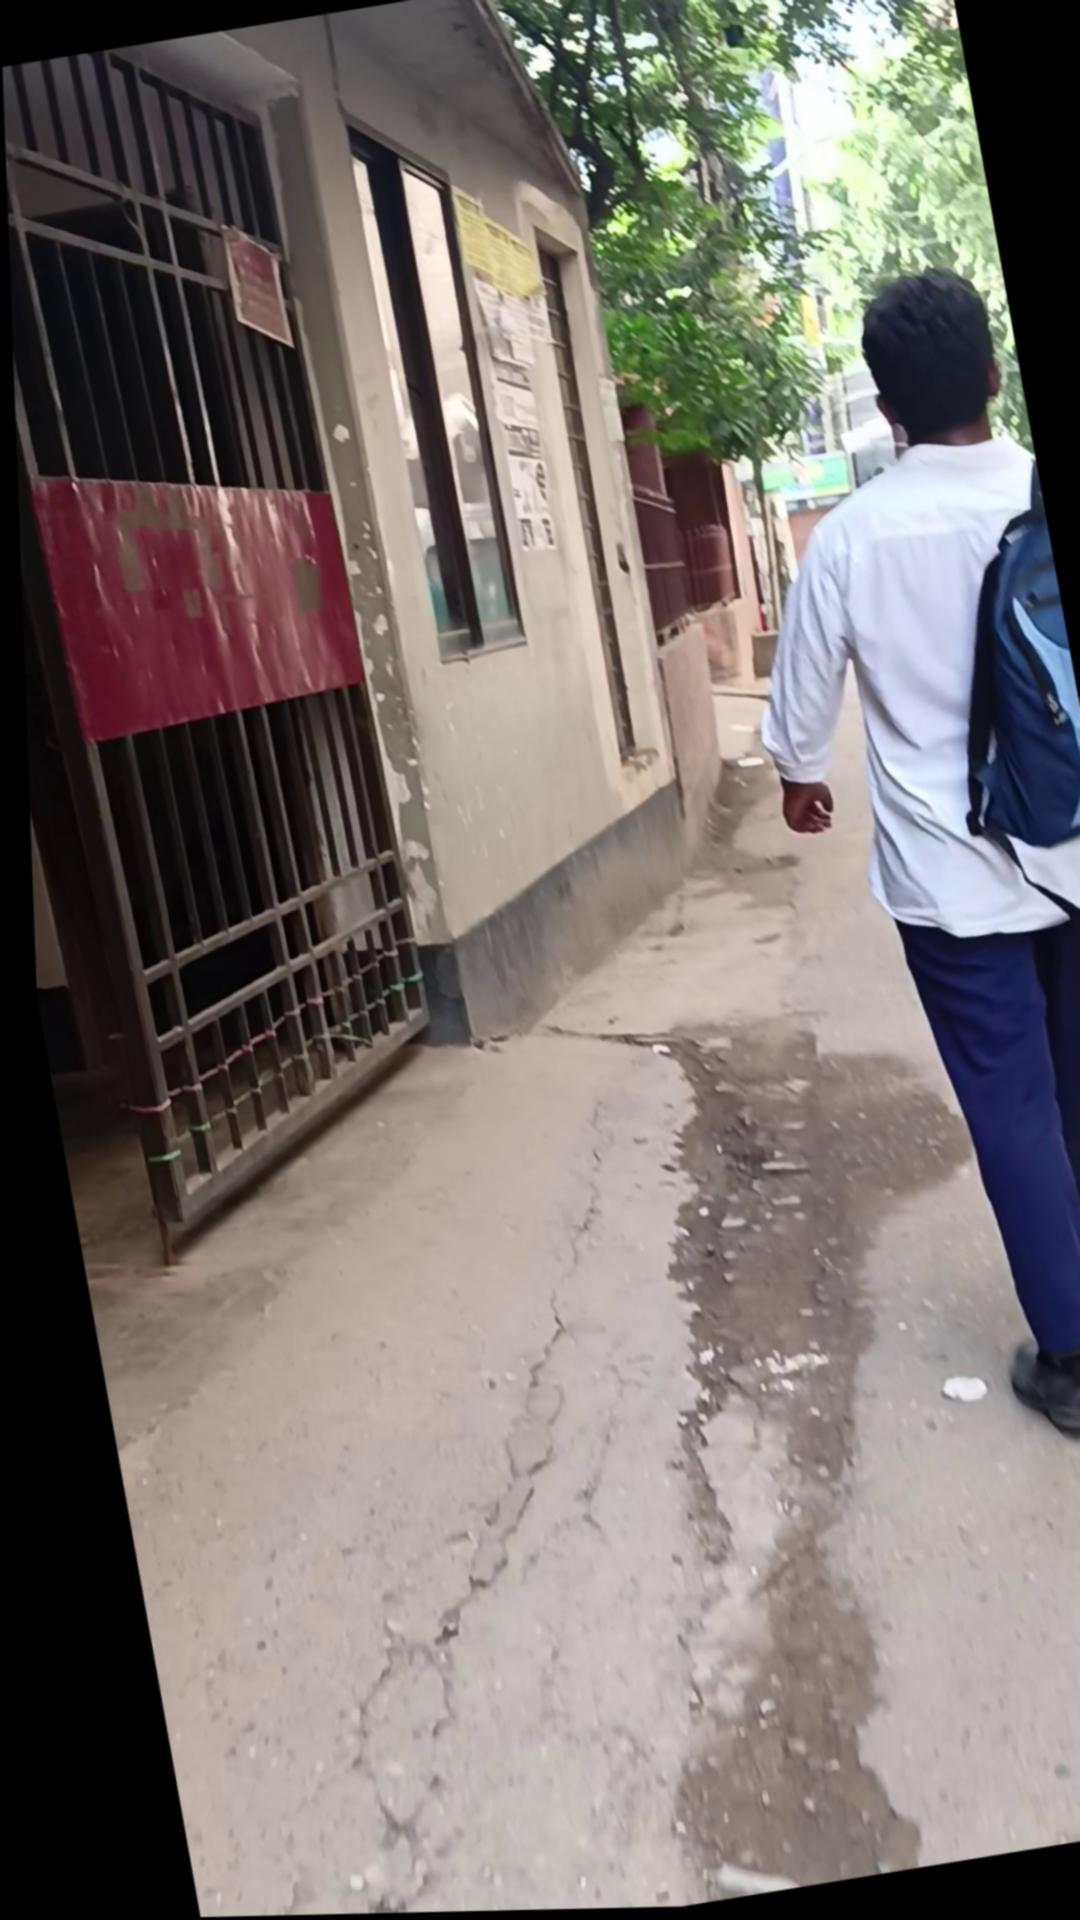Muddy road: (678, 257, 1080, 1474)
Potted-plant: (18, 624, 1080, 1920)
